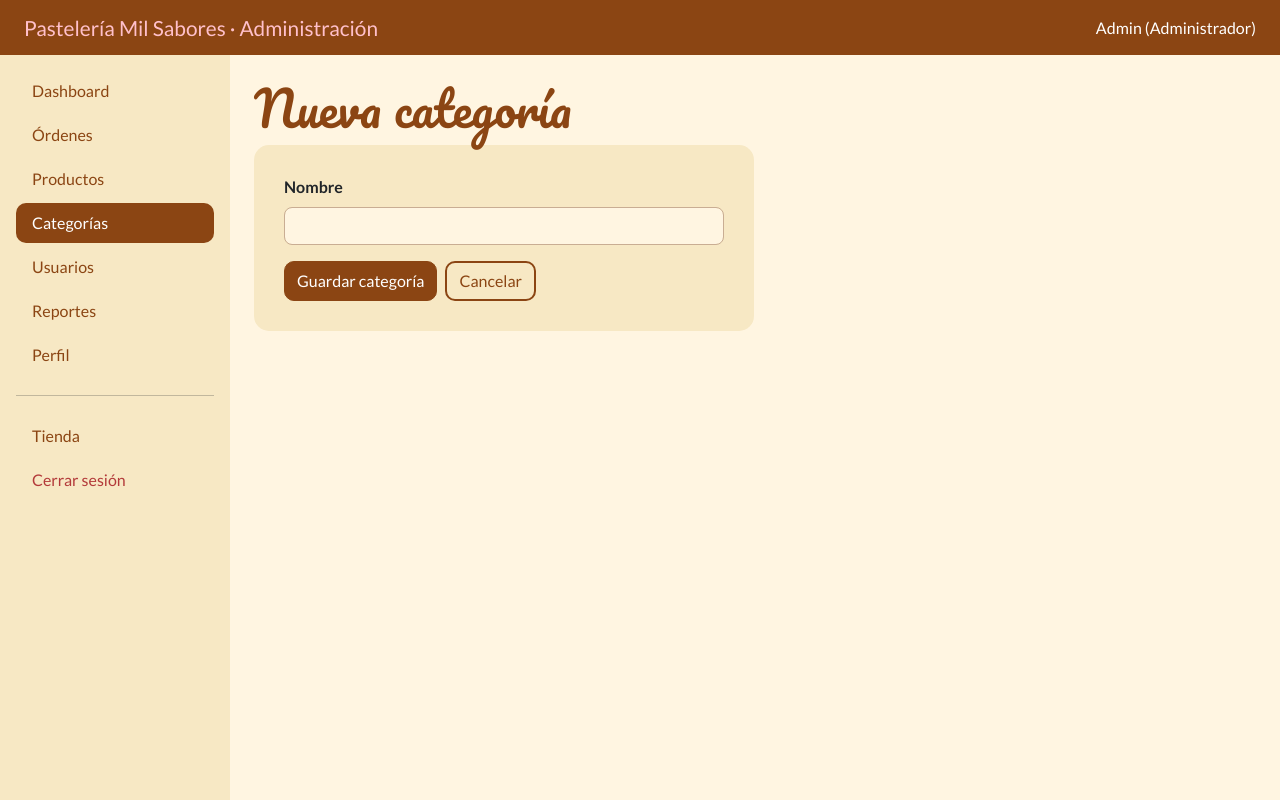
Test case: Admin: categorías › crea una categoría nueva
The width and height of the screenshot is (1280, 800).
Type "Bebidas" into the field labelled "Nombre" at (504, 226), box [284,207,724,245]
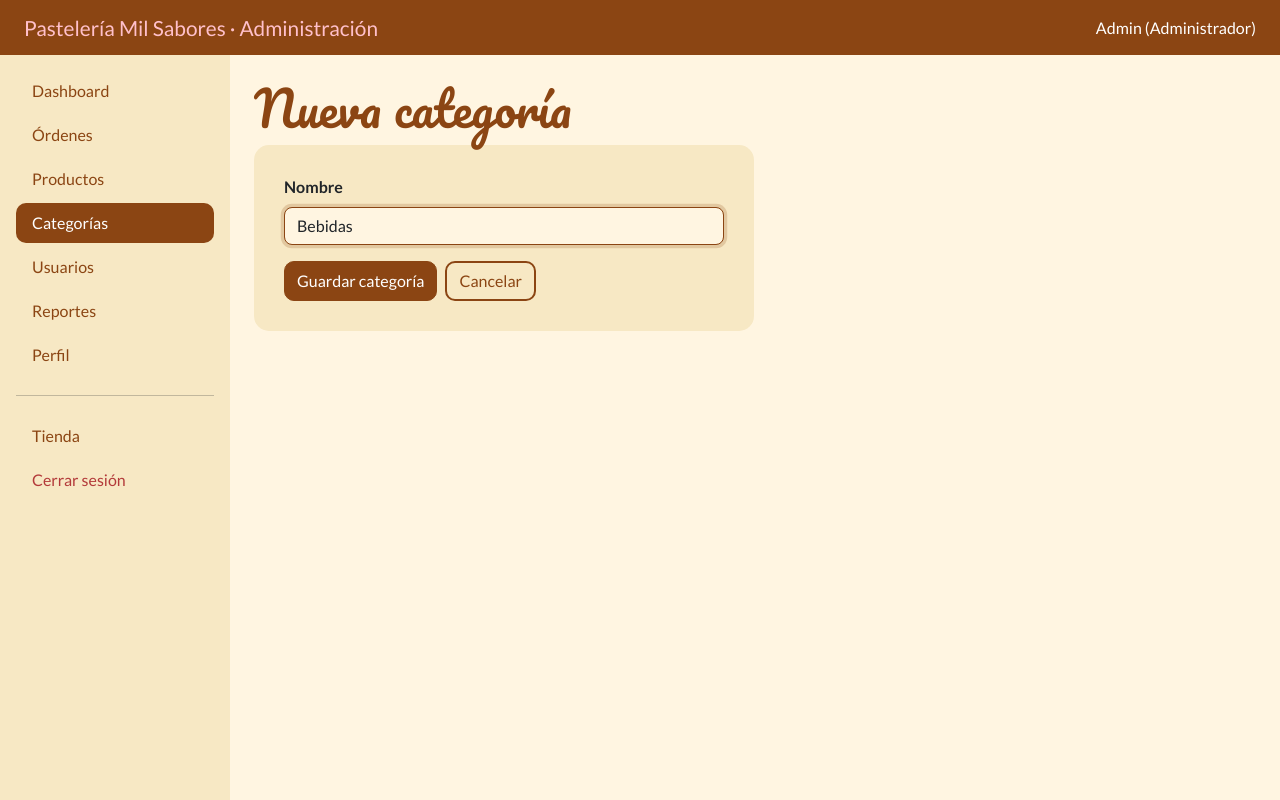
Click the button "Guardar categoría" at (361, 281), box [284,261,438,301]
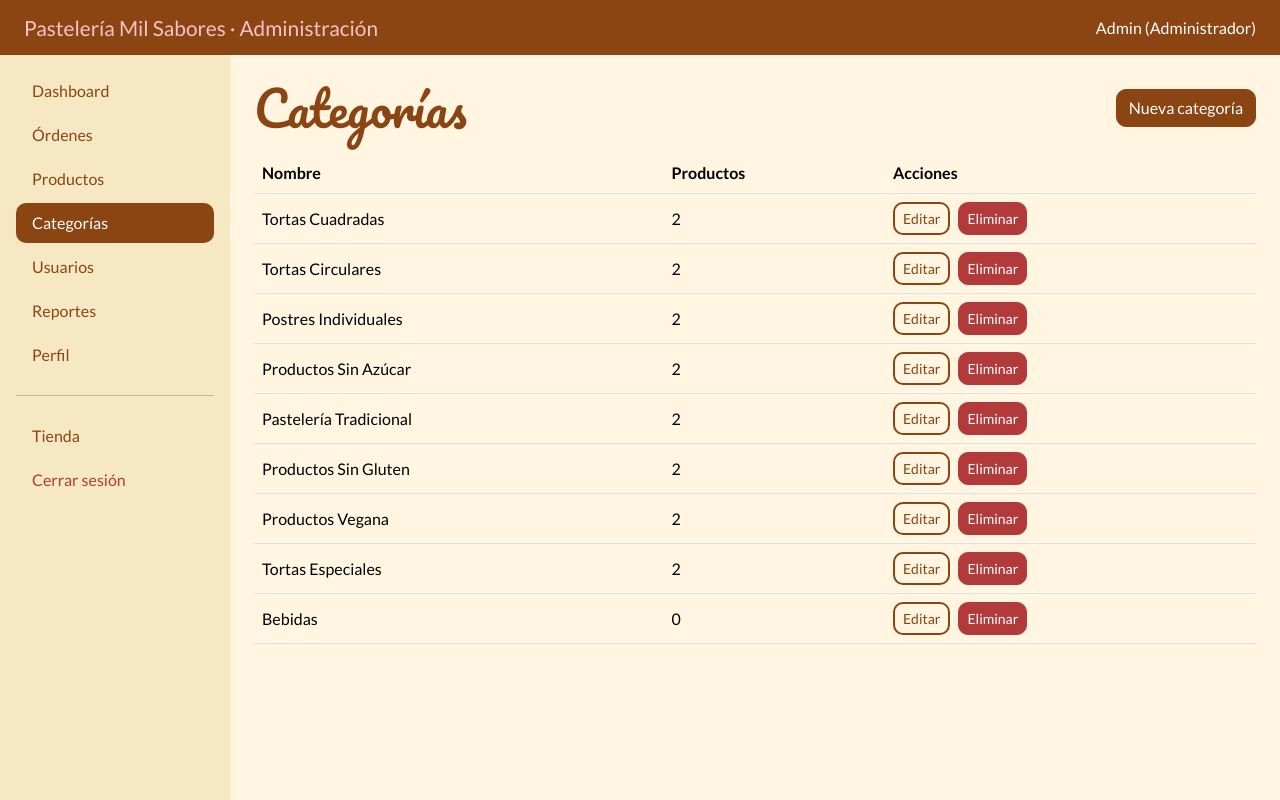
Now the text "Bebidas" is shown, box [254,594,664,644]
